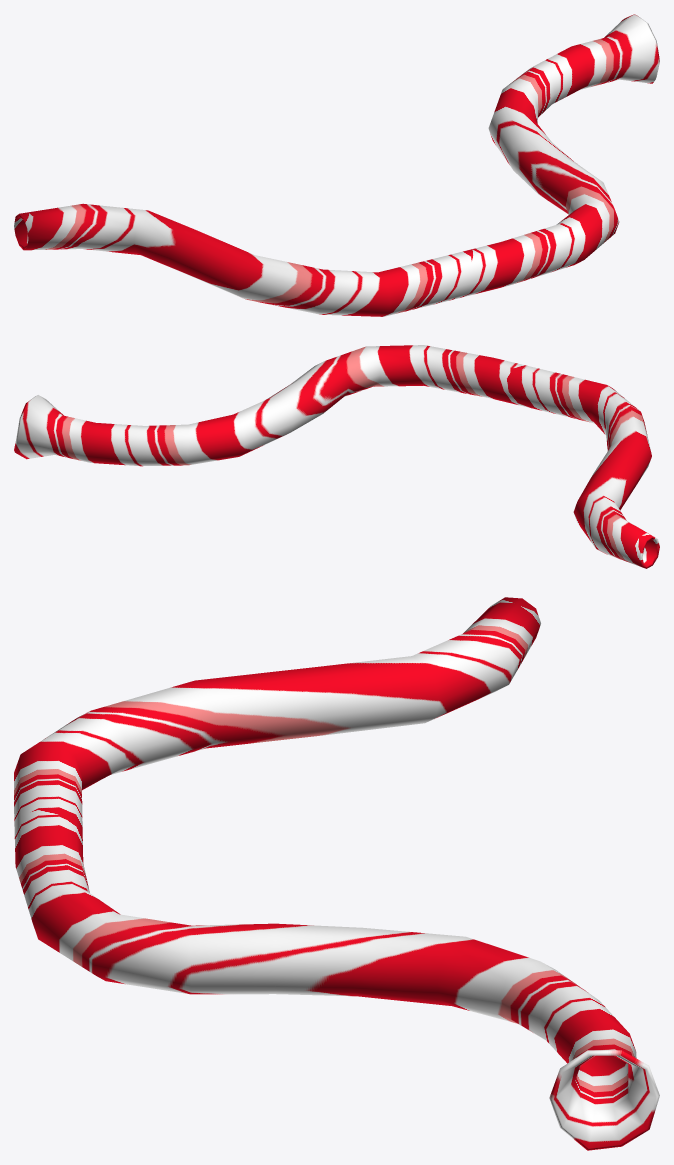
Rendered from CandyTwistTunnel2.fbx.
The picture shows the model from 3 angles, top to bottom: view 1: azimuth 30°, elevation 25°; view 2: azimuth 150°, elevation 25°; view 3: azimuth 270°, elevation 25°; orthographic projection. The views are drawn at different scales.
Visible parts, largest first — view 1: Cylinder.012; view 2: Cylinder.012; view 3: Cylinder.012.
Boxes of the visible parts, box(x1,y1,x2,y2) form: Cylinder.012: box(14, 14, 659, 316); Cylinder.012: box(14, 345, 659, 568); Cylinder.012: box(14, 597, 659, 1150).
Bounding box in the file's own units: 1858 × 170 × 1042.
